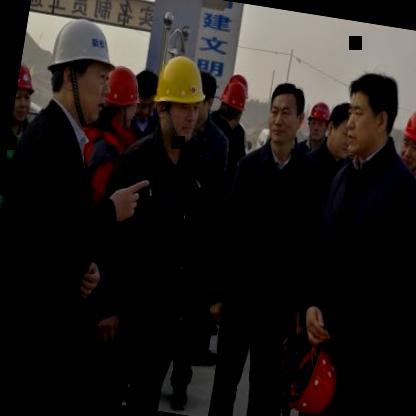head: (334, 60, 402, 164), (257, 78, 310, 150), (322, 95, 361, 166), (128, 67, 159, 130)
helmet: (38, 6, 122, 130), (143, 48, 207, 150), (91, 60, 145, 139), (210, 72, 254, 134), (302, 96, 334, 148), (11, 65, 38, 126), (394, 102, 416, 174)
